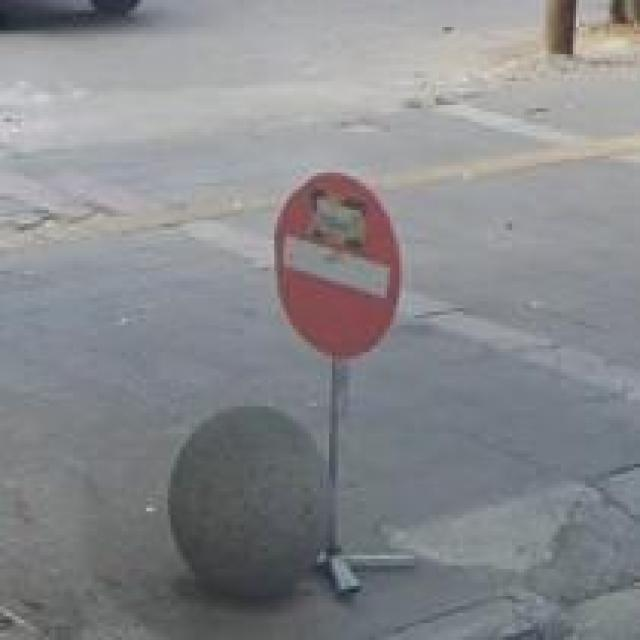traffic sign: (275, 169, 406, 358)
